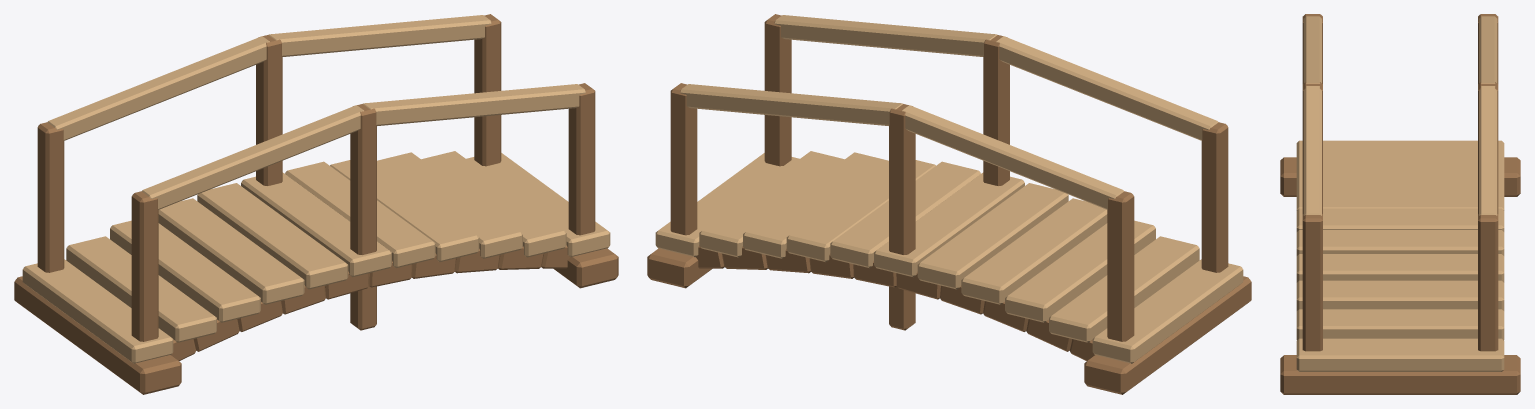
3 views of the same model, side by side, from view 1: azimuth 30°, elevation 25°; view 2: azimuth 150°, elevation 25°; view 3: azimuth 270°, elevation 25° (orthographic). The views are drawn at different scales.
Parts seen in each view (by area): view 1: village-footbridge-01; view 2: village-footbridge-01; view 3: village-footbridge-01.
Part boxes in pixels (bbox=[...]): village-footbridge-01: bbox=[14, 14, 618, 394]; village-footbridge-01: bbox=[647, 14, 1251, 394]; village-footbridge-01: bbox=[1280, 14, 1520, 394].
Bounding box in the file's own units: 2.52 × 1.1 × 1.18.
